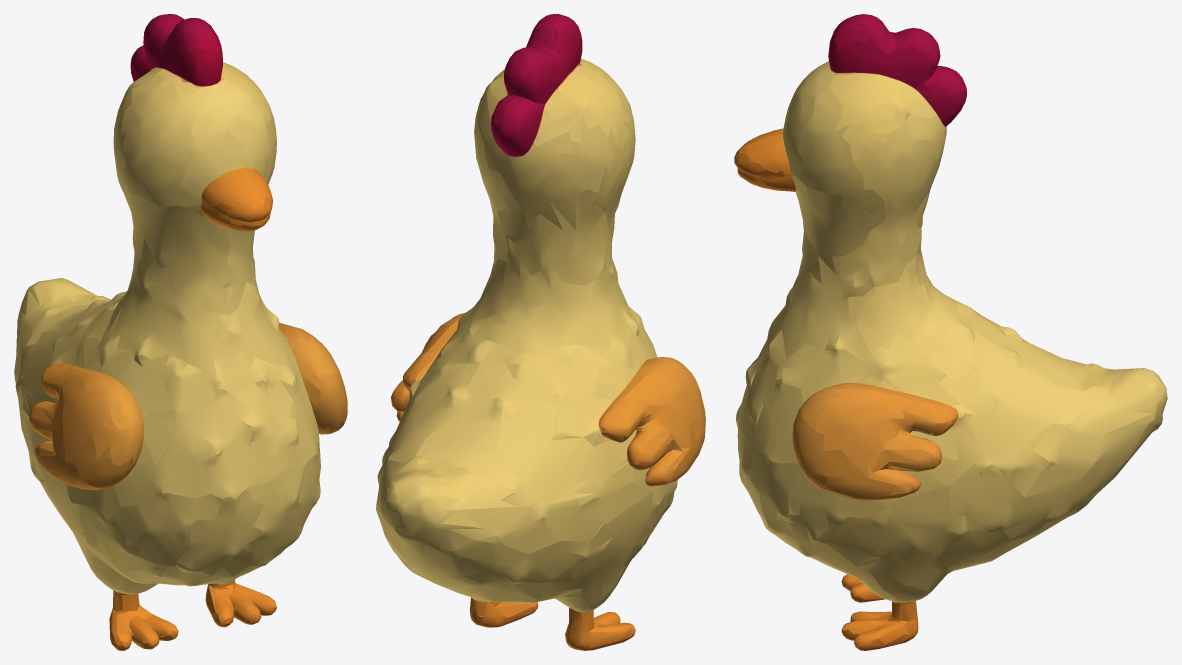
The model's file is rubber_chicken.glb.
The picture shows the model from 3 angles, left to right: view 1: azimuth 30°, elevation 25°; view 2: azimuth 150°, elevation 25°; view 3: azimuth 270°, elevation 25°; orthographic projection. The views are drawn at different scales.
Bounding box in the file's own units: 0.9043 × 1.9 × 1.25.
1 material, 1 textured.
